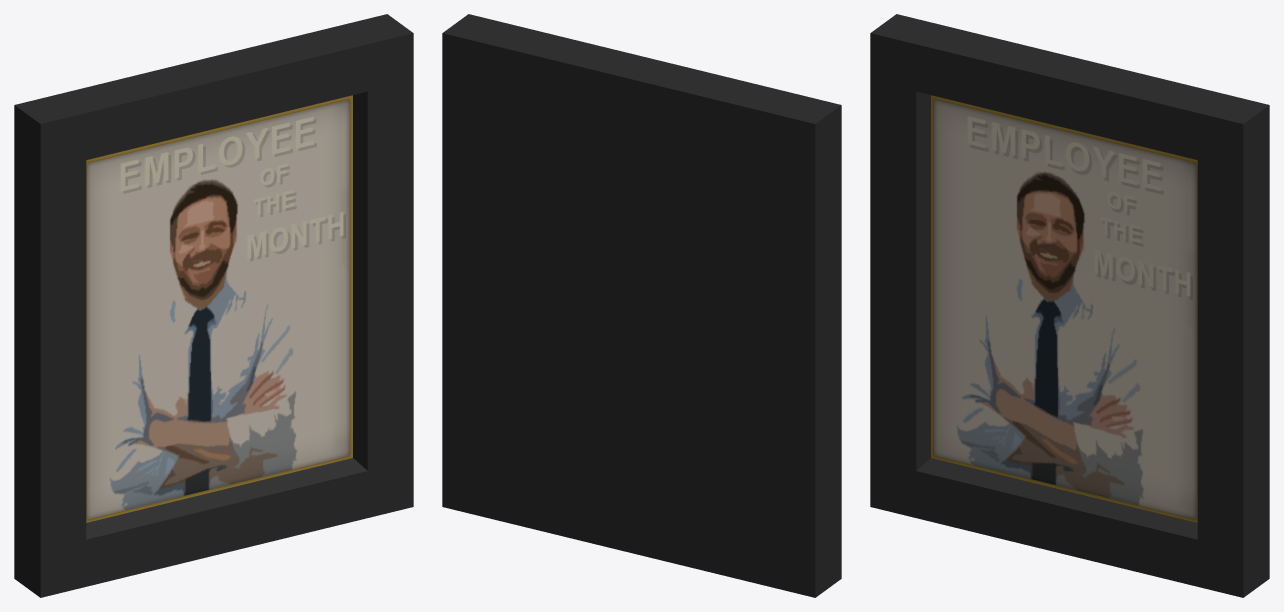
File: employee_of_the_month.fbx
3 renders of one model, left to right at view 1: azimuth 30°, elevation 25°; view 2: azimuth 150°, elevation 25°; view 3: azimuth 330°, elevation 25°, orthographic.
Visible parts, largest first — view 1: employee_of_the_month; view 2: employee_of_the_month; view 3: employee_of_the_month.
Boxes of the visible parts, x1,y1,x2,y2 form: employee_of_the_month: [14, 14, 413, 597]; employee_of_the_month: [442, 14, 841, 597]; employee_of_the_month: [870, 14, 1269, 597].
Size of the model in its own units: 38.98 by 47.33 by 4.74.
